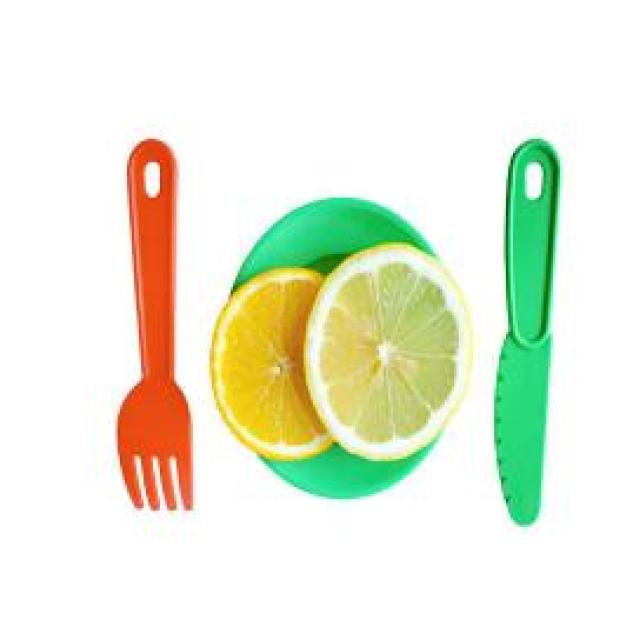knife: (489, 140, 573, 534)
